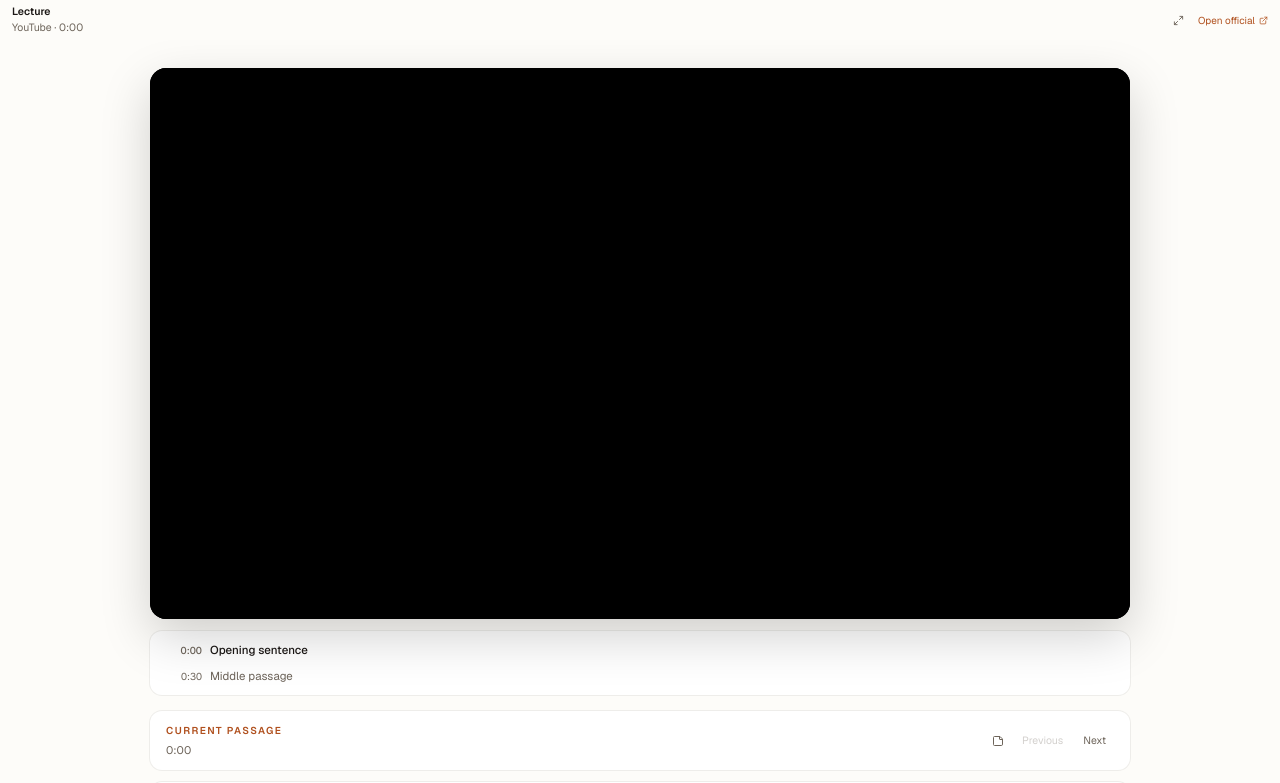
Test case: MediaReadingStage › saves a note anchored to the active transcript segment
This screenshot has width=1280, height=783.
Click the button named "Add segment note" at [998, 741], box [986,729,1010,753]
(page scrolled)
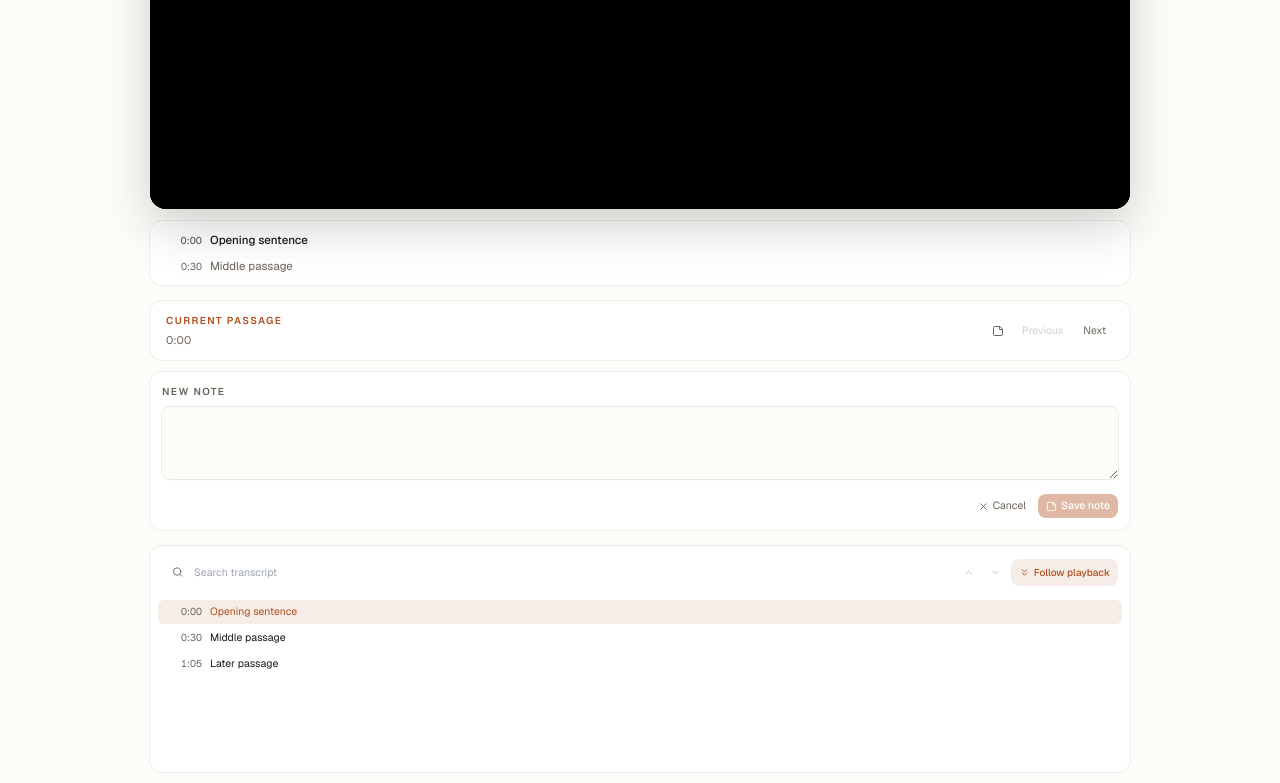
Type "Check this citation later." into the text box with test id "media-note-input" at [640, 443], box [162,407,1118,480]
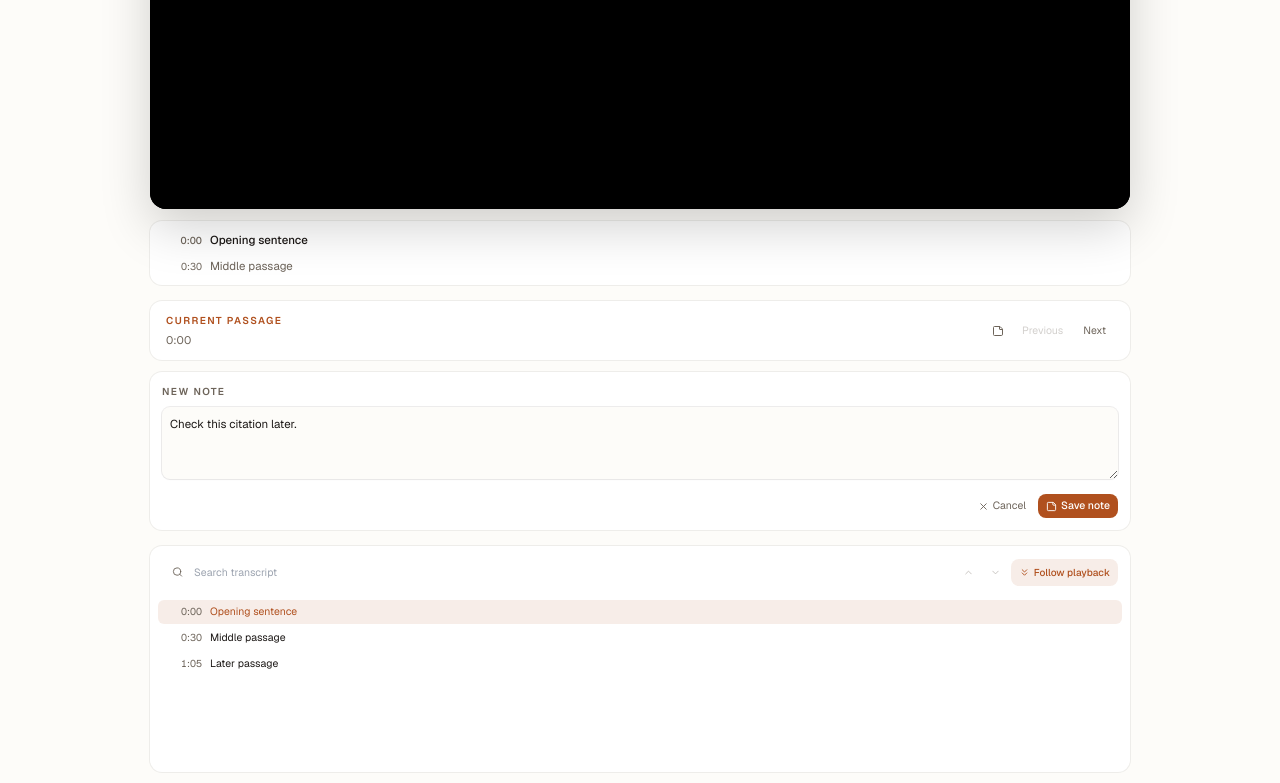
Click the button with test id "media-note-save" at [1078, 506], box [1038,494,1118,518]
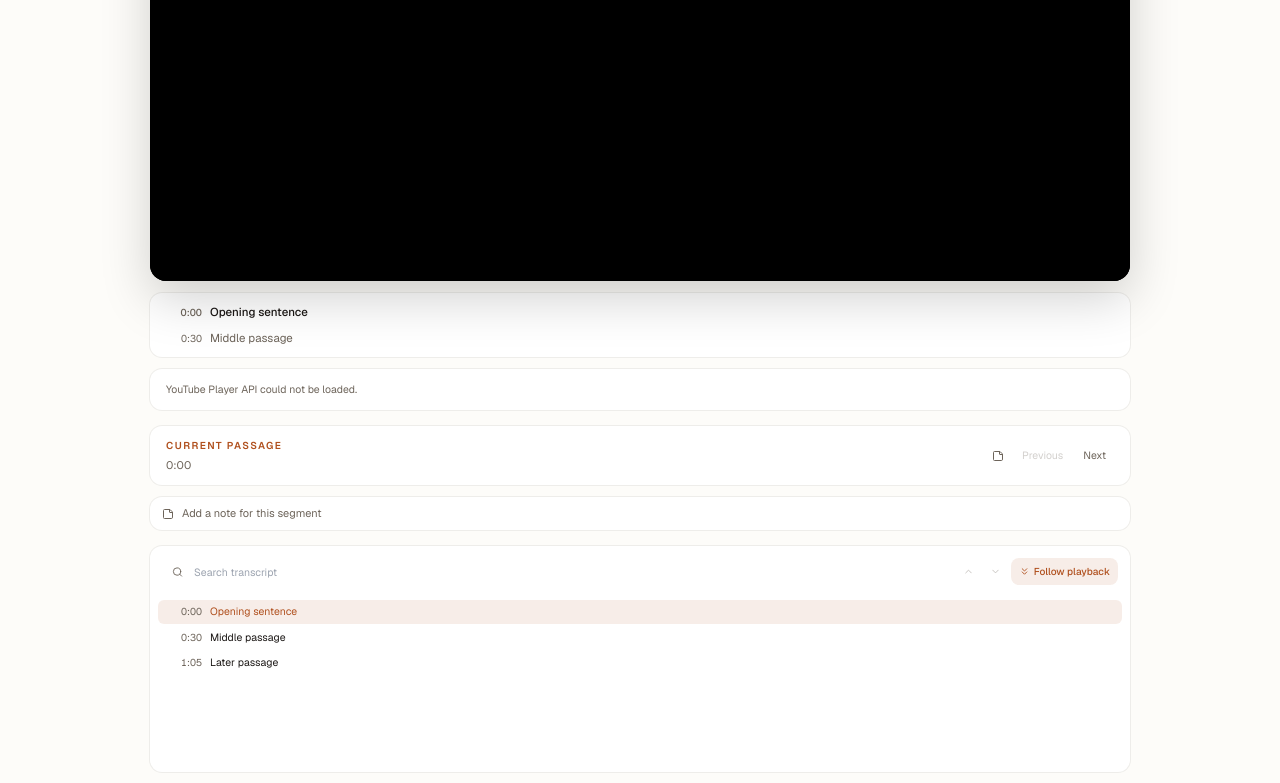
Now the text box with test id "media-note-input" is gone
